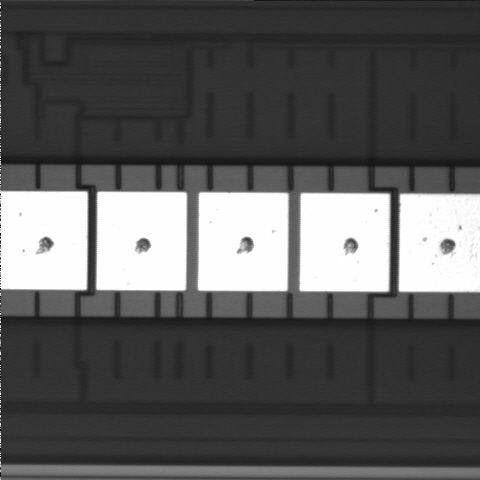pad: (96, 192, 187, 291), (198, 192, 288, 291), (300, 193, 390, 291)
